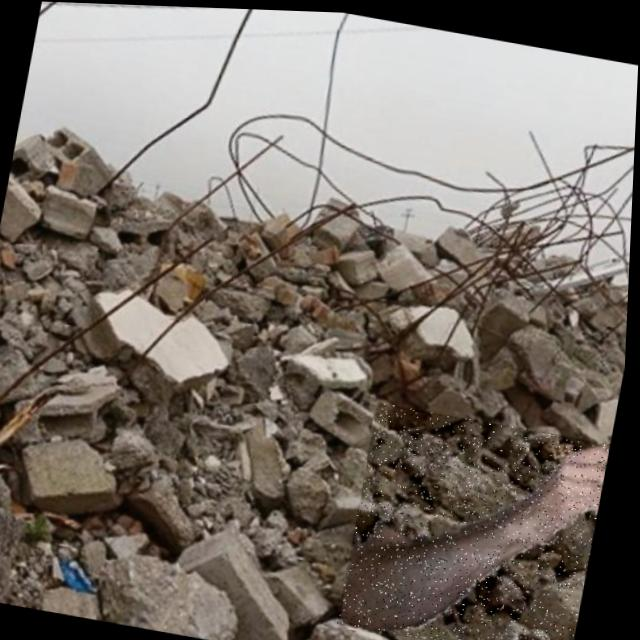Person in Rubble: (342, 399, 615, 640)
